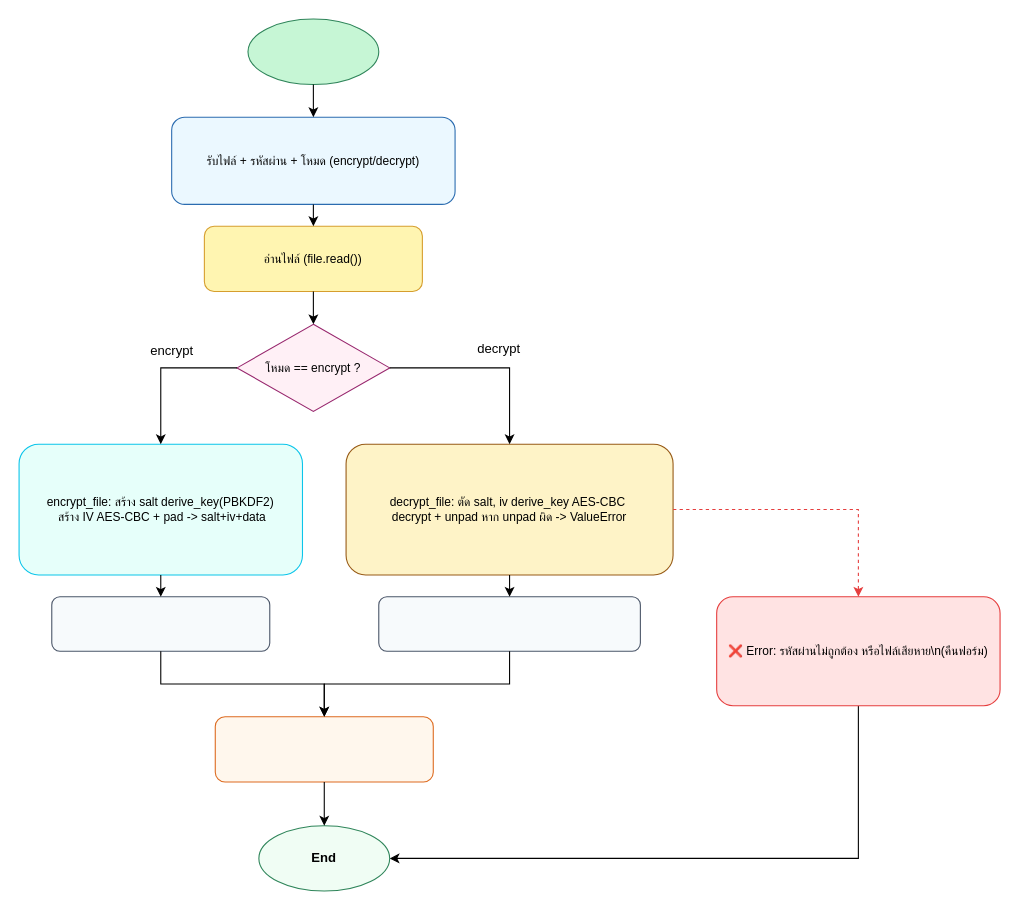
Image size: 1019x910. Some labels were removed from this diagram. Each missing label, with the centre of its shape:
Start: the point at 313,51
ตั้งชื่อ: filename + .enc: the point at 160,623
ตั้งชื่อ: ตัด .enc (original filename): the point at 509,623
ส่งไฟล์ดาวน์โหลด (send_file): the point at 323,749
